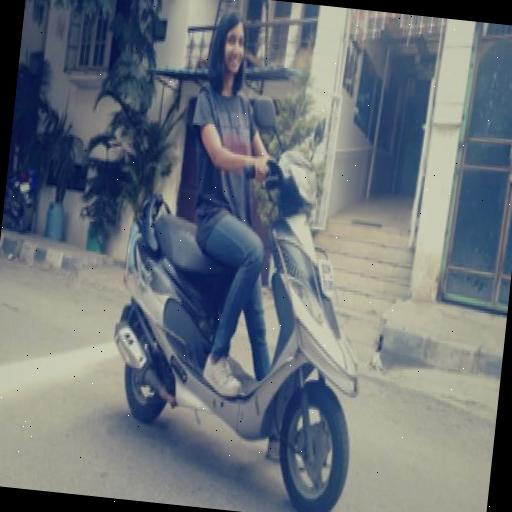no helmet: (141, 0, 404, 503)
